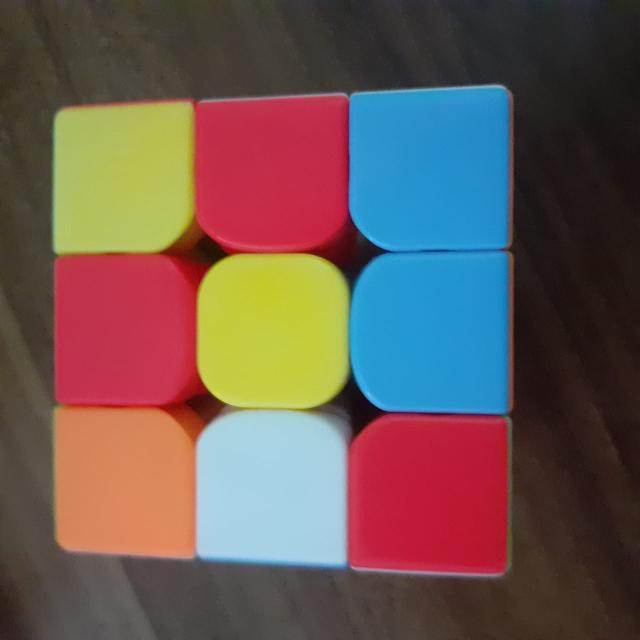Blue: (354, 254, 510, 414), (352, 94, 514, 248)
Orange: (54, 412, 194, 562)
Red: (352, 415, 506, 573), (198, 106, 346, 244), (58, 257, 192, 403)
White: (196, 416, 346, 566)
Yellow: (199, 255, 349, 408), (55, 107, 191, 247)
